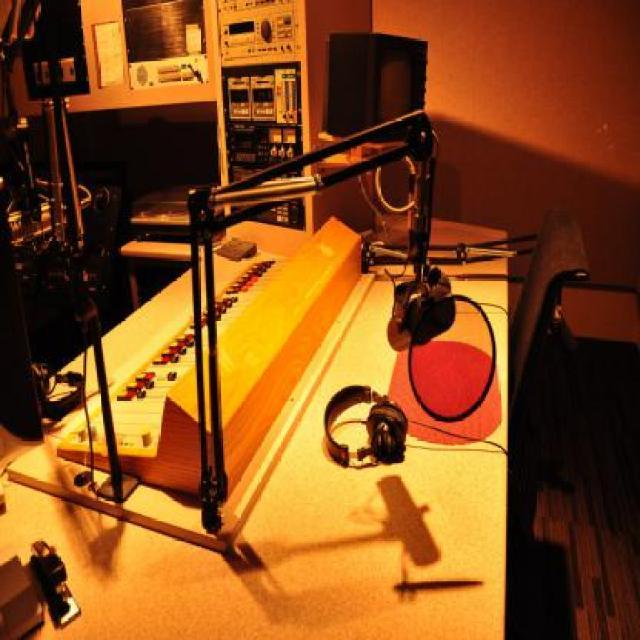earphone: (326, 378, 416, 472)
